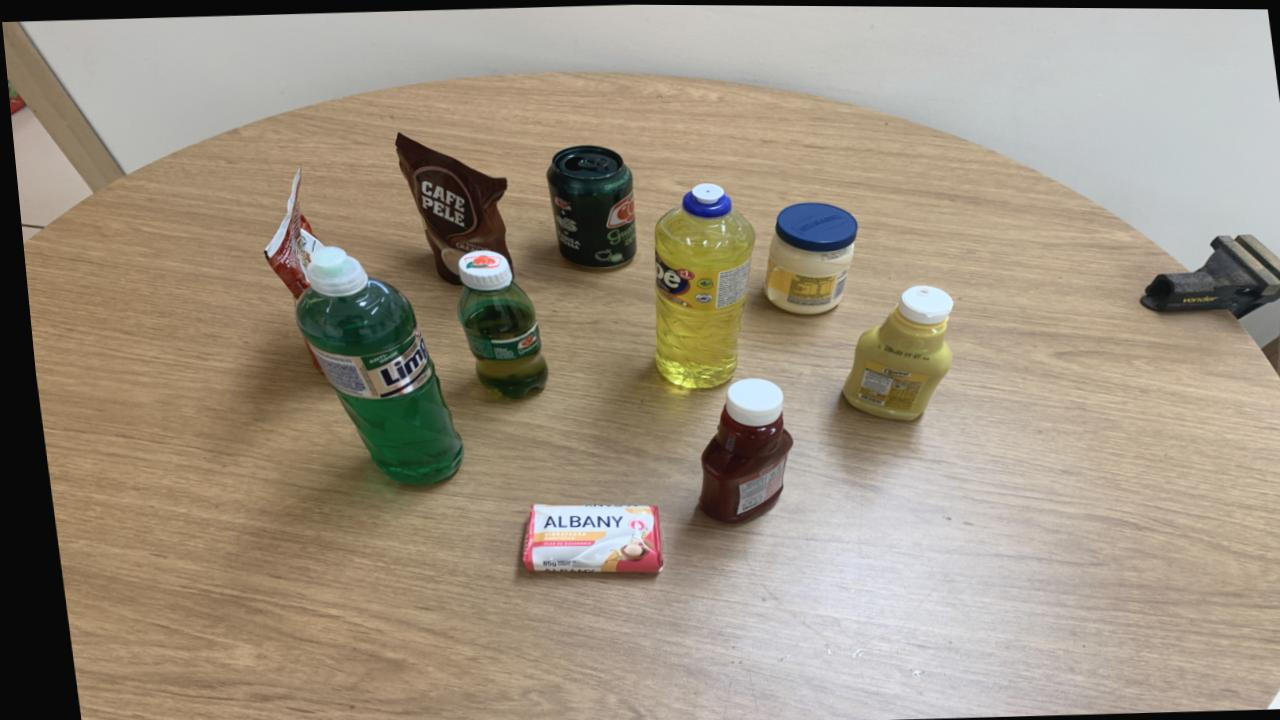Coffee-Pantry_Items: (392, 133, 506, 284)
Detergent-Cleanup_Items: (289, 246, 455, 484), (648, 205, 751, 388)
Guarana-Drinks: (451, 249, 541, 397)
Guarana_Can-Drinks: (543, 144, 632, 268)
Ketchup-Pantry_Items: (689, 378, 784, 522)
Mayonnaise-Pantry_Items: (760, 201, 853, 313)
Mustard-Pantry_Items: (835, 285, 948, 419)
Soap-Cleanup_Items: (511, 503, 652, 572)
Tomato_Sauce-Pantry_Items: (260, 170, 319, 298)
